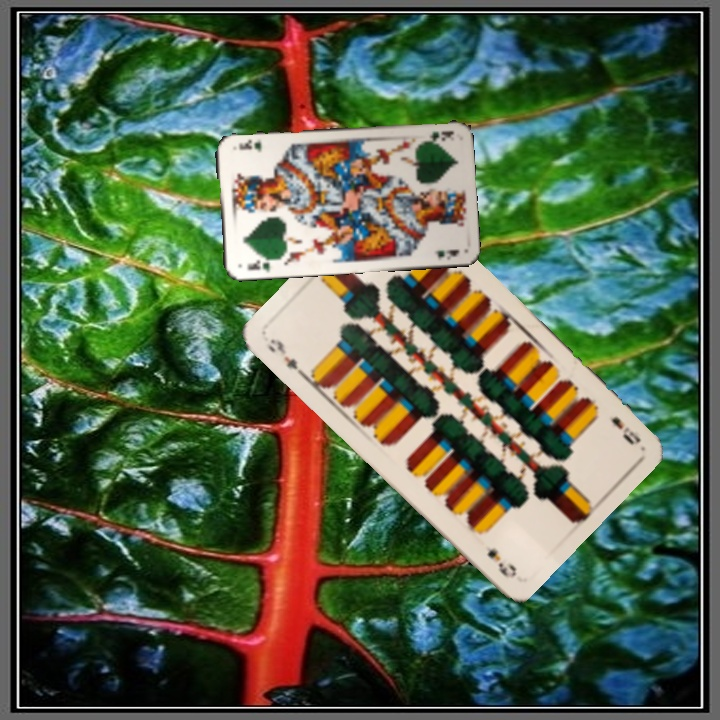E9: (263, 334, 309, 380), (607, 412, 644, 448)
GK: (243, 255, 276, 275), (416, 127, 456, 143)
